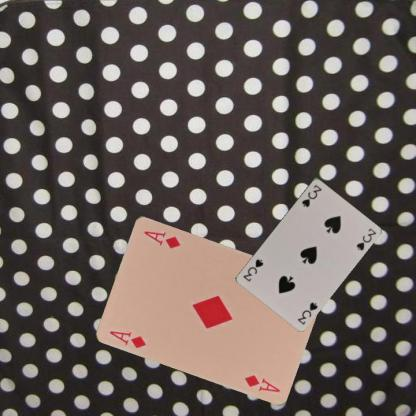3s: (295, 299, 319, 326), (299, 182, 323, 208)
Ad: (107, 328, 148, 350)
